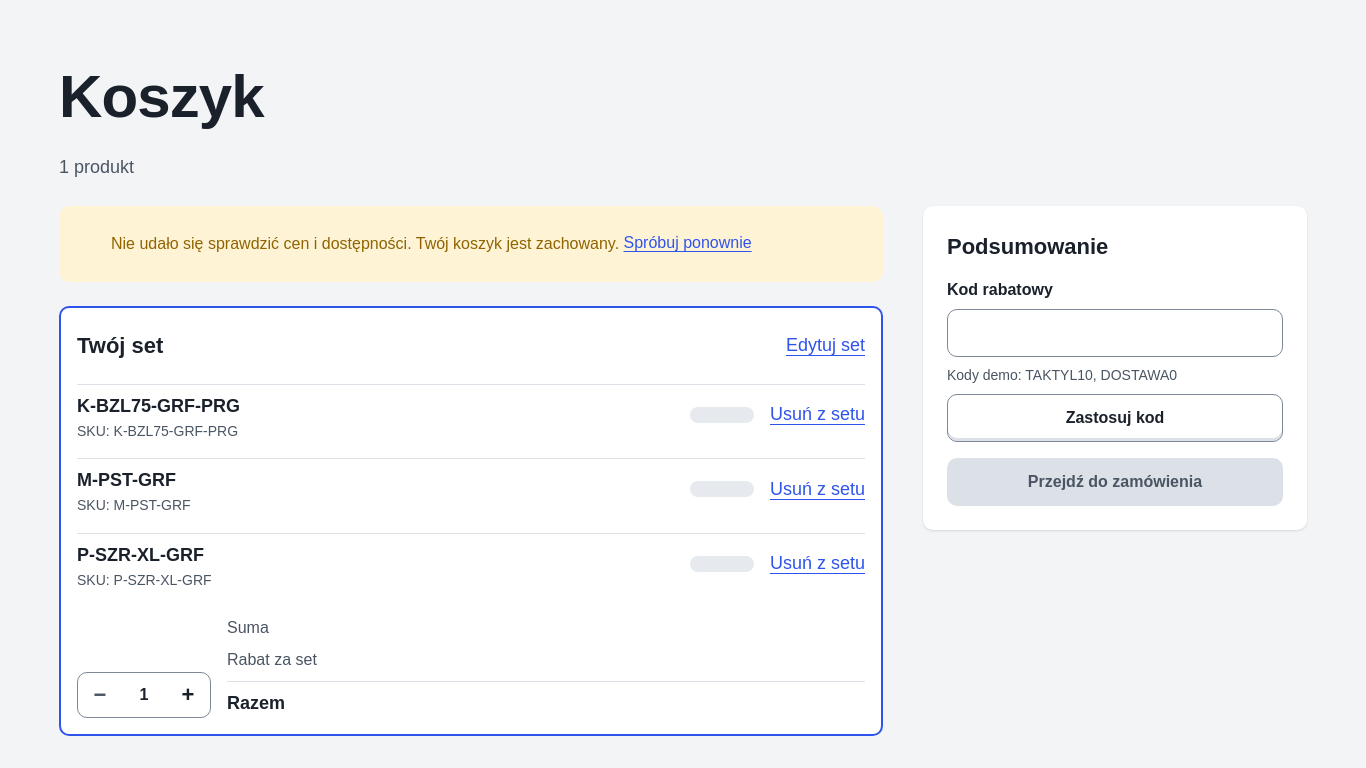
wycena: ladowanie i blad sieci › blad sieci: komunikat, koszyk zachowany, ponowienie dziala
Expected: the text "Nie udało się sprawdzić cen i dostępności. Twój koszyk jest zachowany." is shown, x1=111 y1=234 x2=619 y2=252
Expected: the button "Przejdź do zamówienia" is disabled, x1=947 y1=458 x2=1283 y2=506
Step 1. Click the button "Spróbuj ponownie" → (688, 244), box x1=624 y1=222 x2=752 y2=266
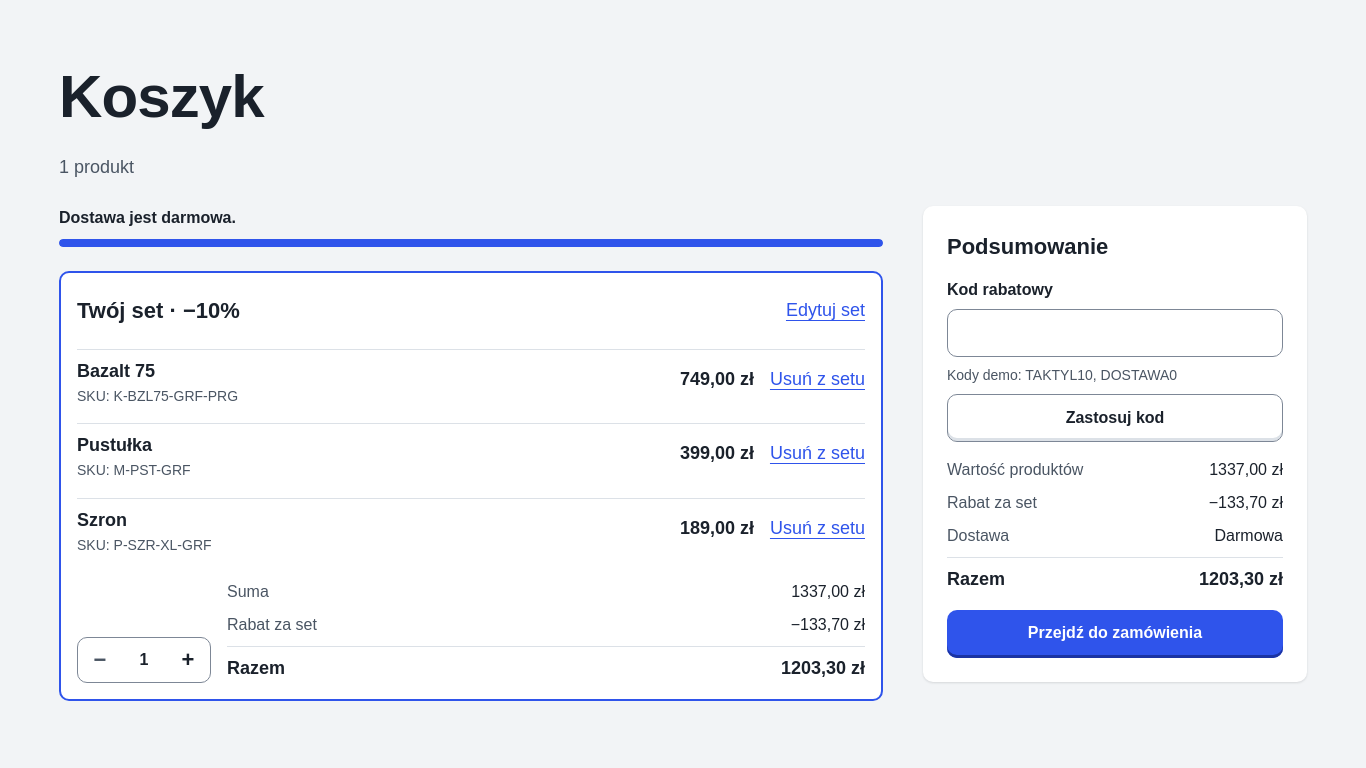
Expected: the heading "Twój set · −10%" is shown, x1=77 y1=294 x2=240 y2=328
